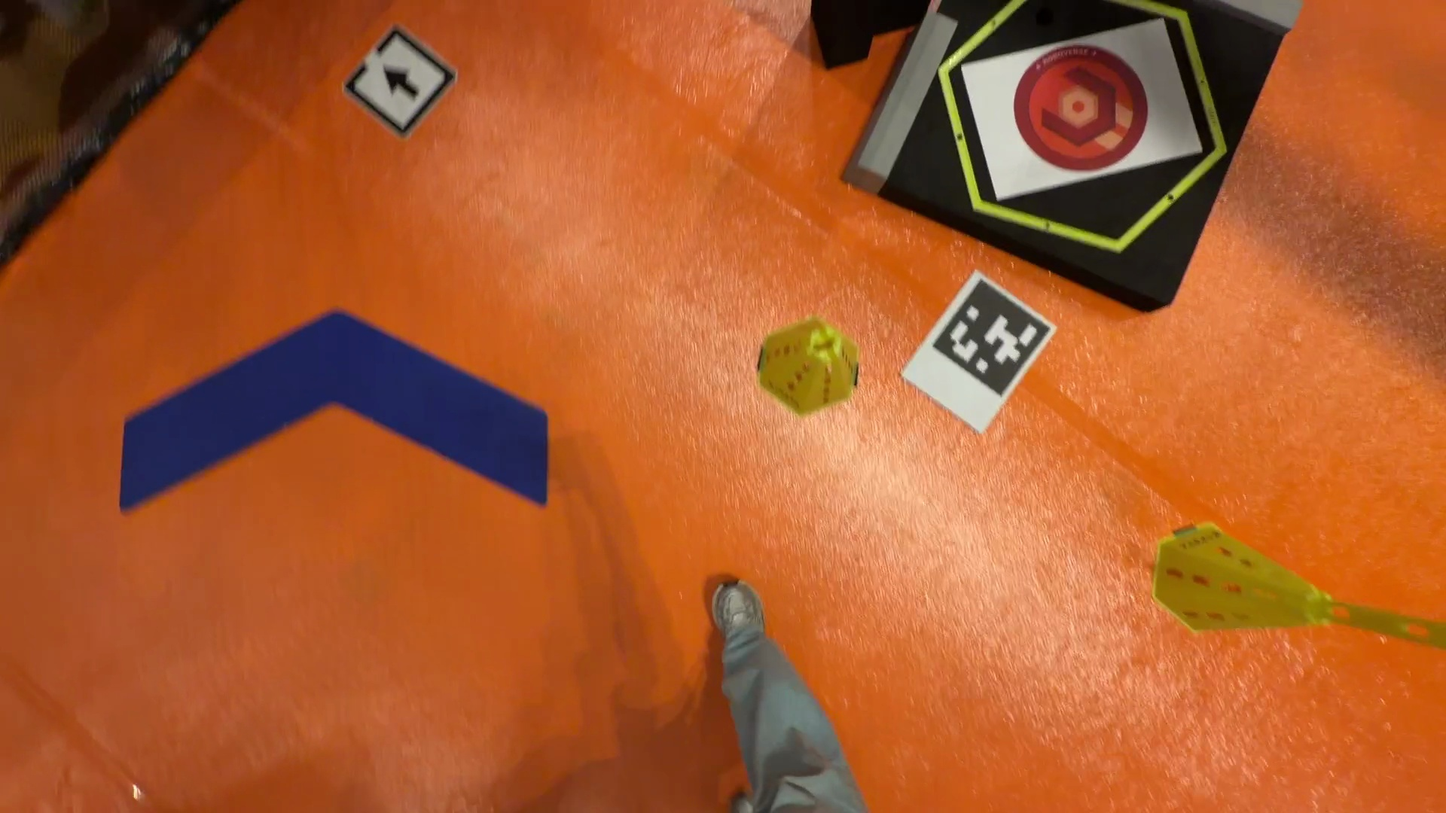landing_pad: (1013, 46, 1149, 169)
